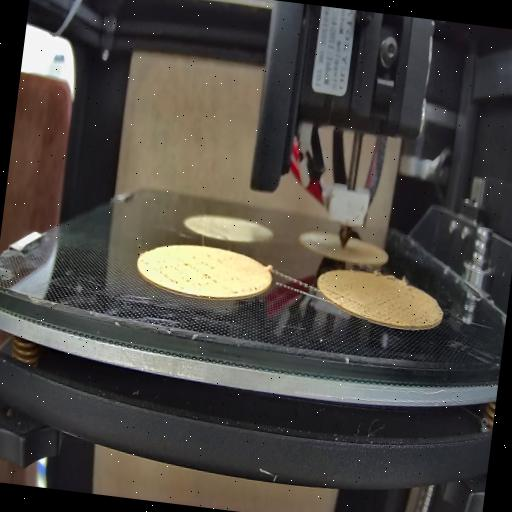under_extrusion: (152, 250, 224, 292), (372, 289, 430, 327), (320, 286, 362, 308), (229, 274, 261, 300)
